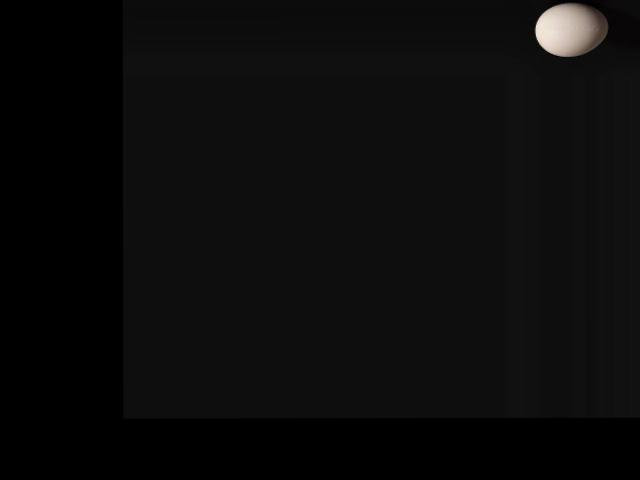egg: (534, 2, 607, 56)
